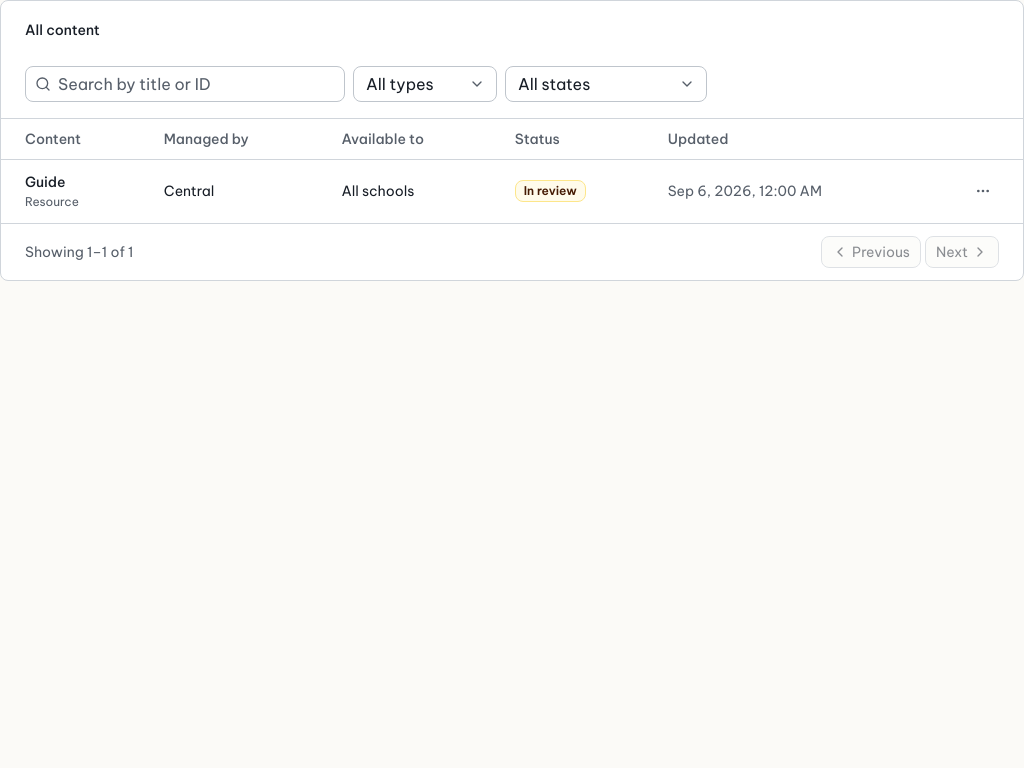
Test: Central review interface › loads a library workflow only when expanded and withdraws a pending review
The image size is (1024, 768).
Expected: the button "Review workflow" is not shown
# The workflow moved from an expandable row into a Sheet opened from the row's "…" menu.
Step 1. Press the mouse on the button named "Actions for Guide" → (983, 191), box [967,175,999,207]
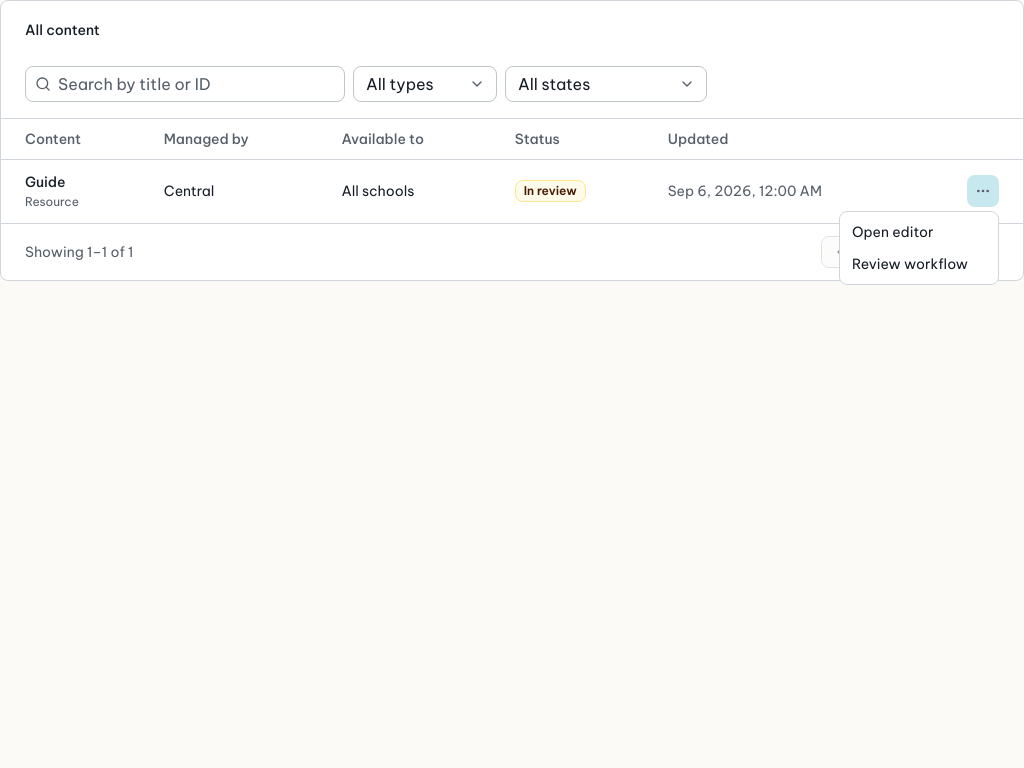
Step 2. Click the menu item "Review workflow" → click(910, 264), box [852,255,968,273]
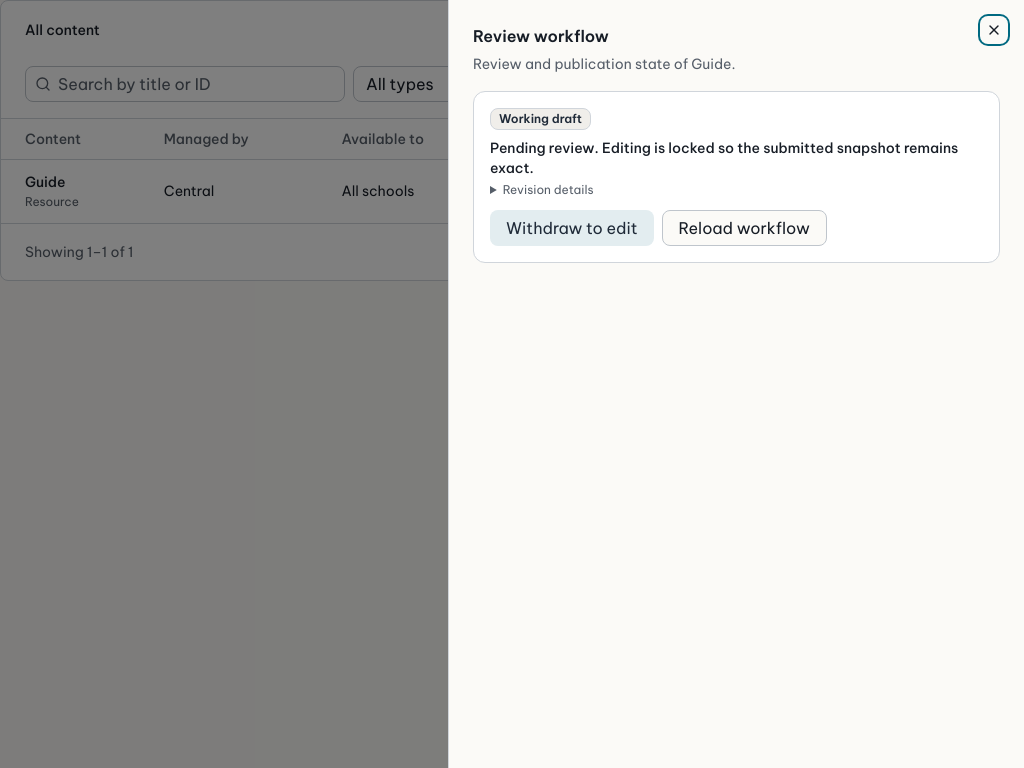
Result: the dialog "Review workflow" is shown at [448,0,1023,767]
Step 3. Click the button "Withdraw to edit" → click(572, 228), box [490,210,654,246]
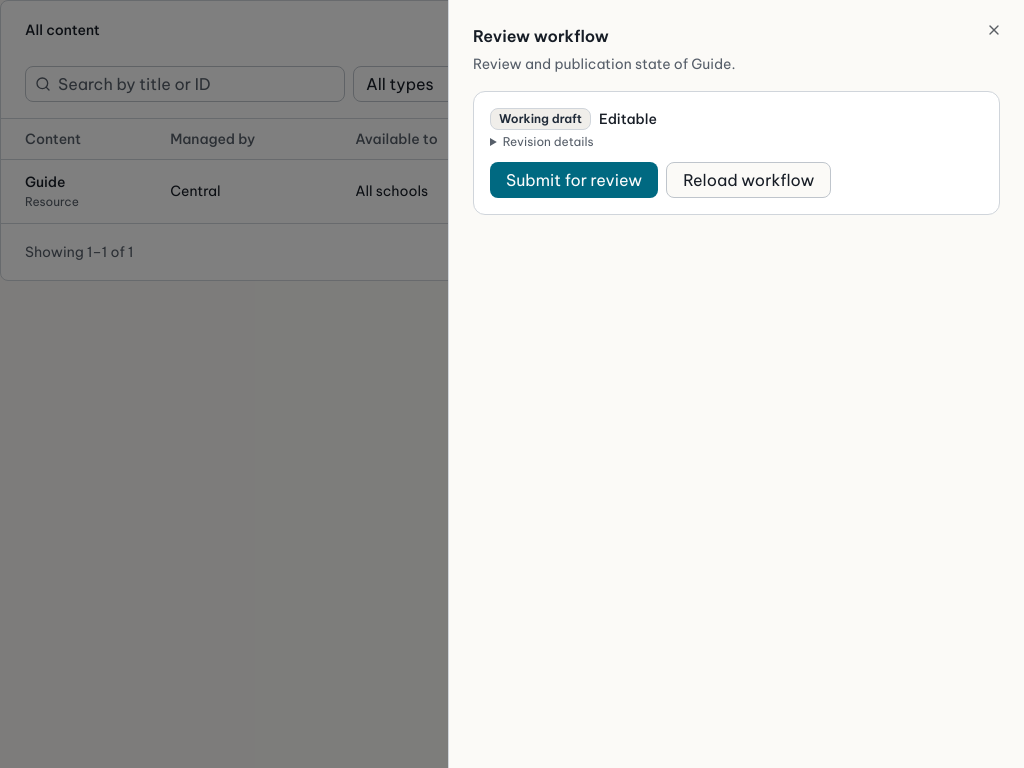
Result: the text "Editable" is shown at [599,109,657,129]
